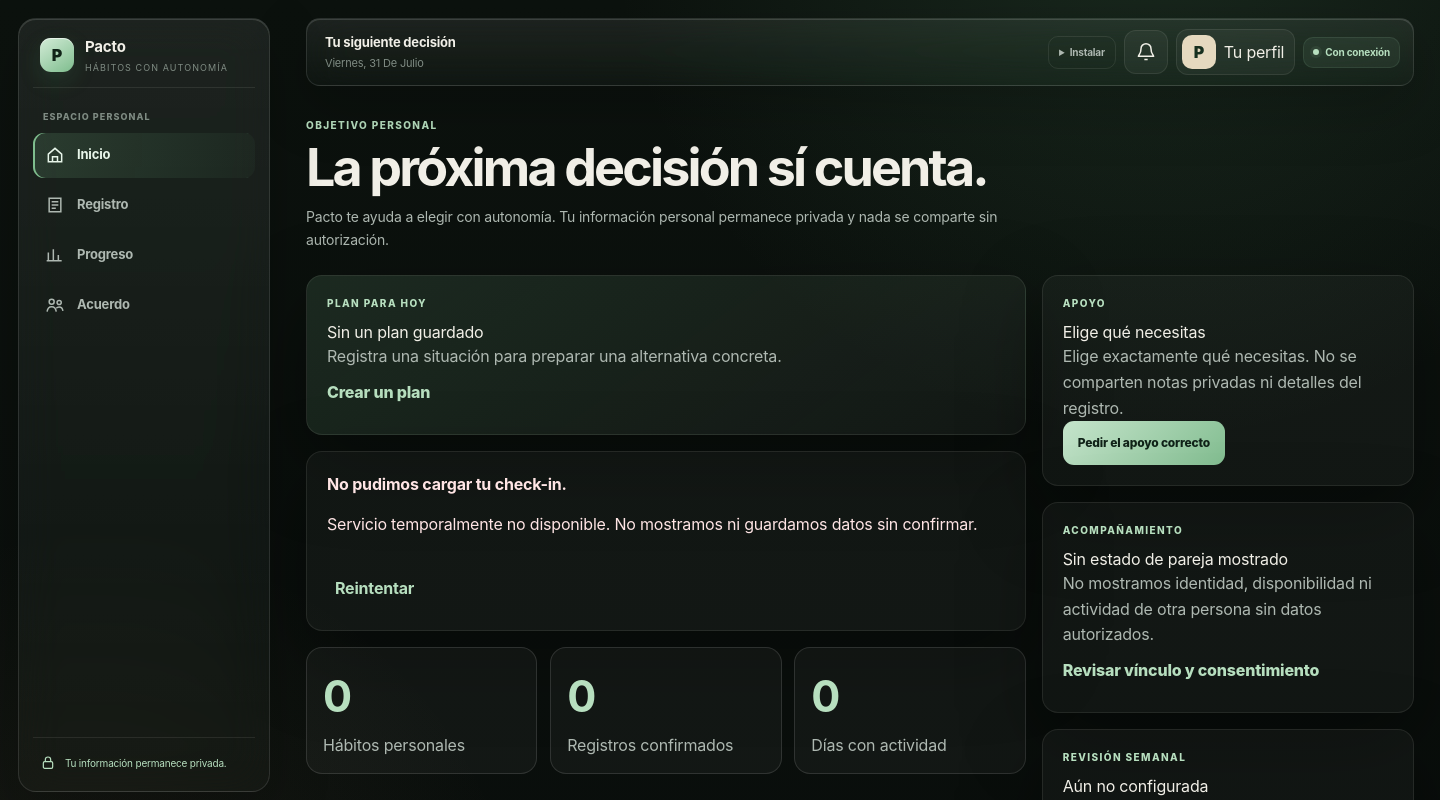
Scenario: daily check-in flow › renders a load error and retries without inventing check-in data
Expected: the message shows "No pudimos cargar tu check-in", [327, 474, 567, 494]
Step 1. Click the button "Reintentar" → {"x": 375, "y": 588}, box [327, 566, 422, 610]
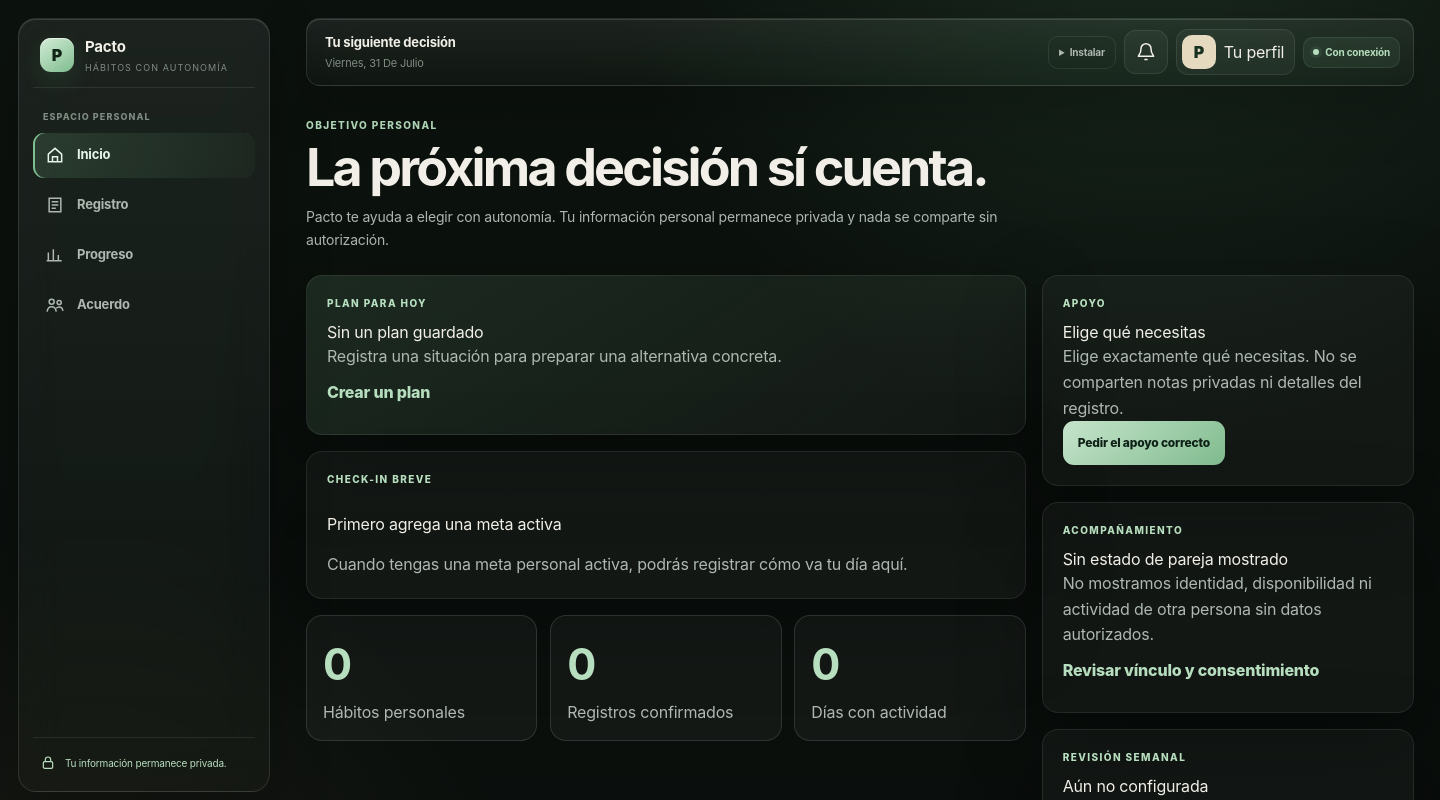
Result: the heading "Primero agrega una meta activa" is shown at [327, 514, 562, 534]
